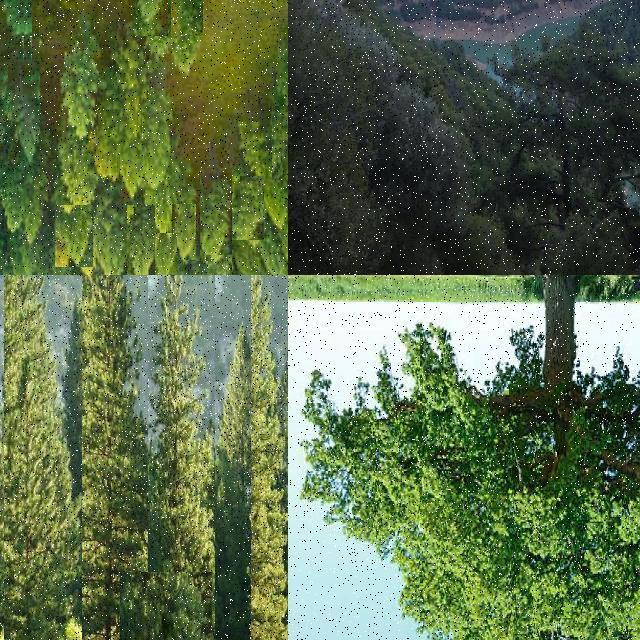tree: (288, 300, 640, 640), (50, 275, 145, 640), (4, 275, 82, 640), (288, 1, 384, 276), (148, 275, 215, 640), (502, 36, 640, 208), (222, 324, 266, 640), (251, 275, 288, 640), (382, 86, 472, 220), (0, 290, 26, 626), (120, 572, 212, 640), (61, 27, 102, 139), (5, 154, 50, 242), (8, 62, 40, 166), (58, 133, 98, 215), (200, 168, 232, 264), (238, 100, 270, 188), (166, 0, 198, 84), (0, 0, 32, 74), (55, 205, 93, 267), (232, 176, 264, 240), (0, 0, 24, 82), (127, 205, 155, 275), (260, 167, 288, 230), (39, 0, 75, 46), (172, 204, 196, 260), (134, 0, 168, 36), (2, 0, 38, 34), (0, 4, 16, 78), (272, 106, 288, 180), (171, 0, 203, 36), (0, 18, 16, 86), (1, 198, 16, 260), (155, 233, 177, 275), (261, 238, 285, 274), (18, 237, 40, 276), (0, 132, 14, 192), (0, 55, 12, 123), (0, 28, 14, 84), (0, 0, 14, 56), (0, 66, 12, 126), (0, 89, 12, 149), (0, 114, 12, 172), (0, 0, 16, 42), (1, 0, 20, 34), (0, 0, 16, 40), (0, 206, 12, 258), (0, 143, 10, 205), (0, 0, 16, 38), (0, 0, 18, 32), (0, 117, 12, 165), (0, 30, 12, 78), (0, 202, 10, 258), (50, 246, 70, 274), (0, 230, 12, 274), (206, 255, 232, 275), (0, 142, 10, 194), (0, 78, 12, 118), (0, 1, 12, 40), (0, 157, 8, 207), (0, 0, 12, 32), (0, 198, 8, 244), (0, 0, 12, 28), (184, 261, 208, 275), (0, 0, 14, 22), (0, 0, 12, 22)
